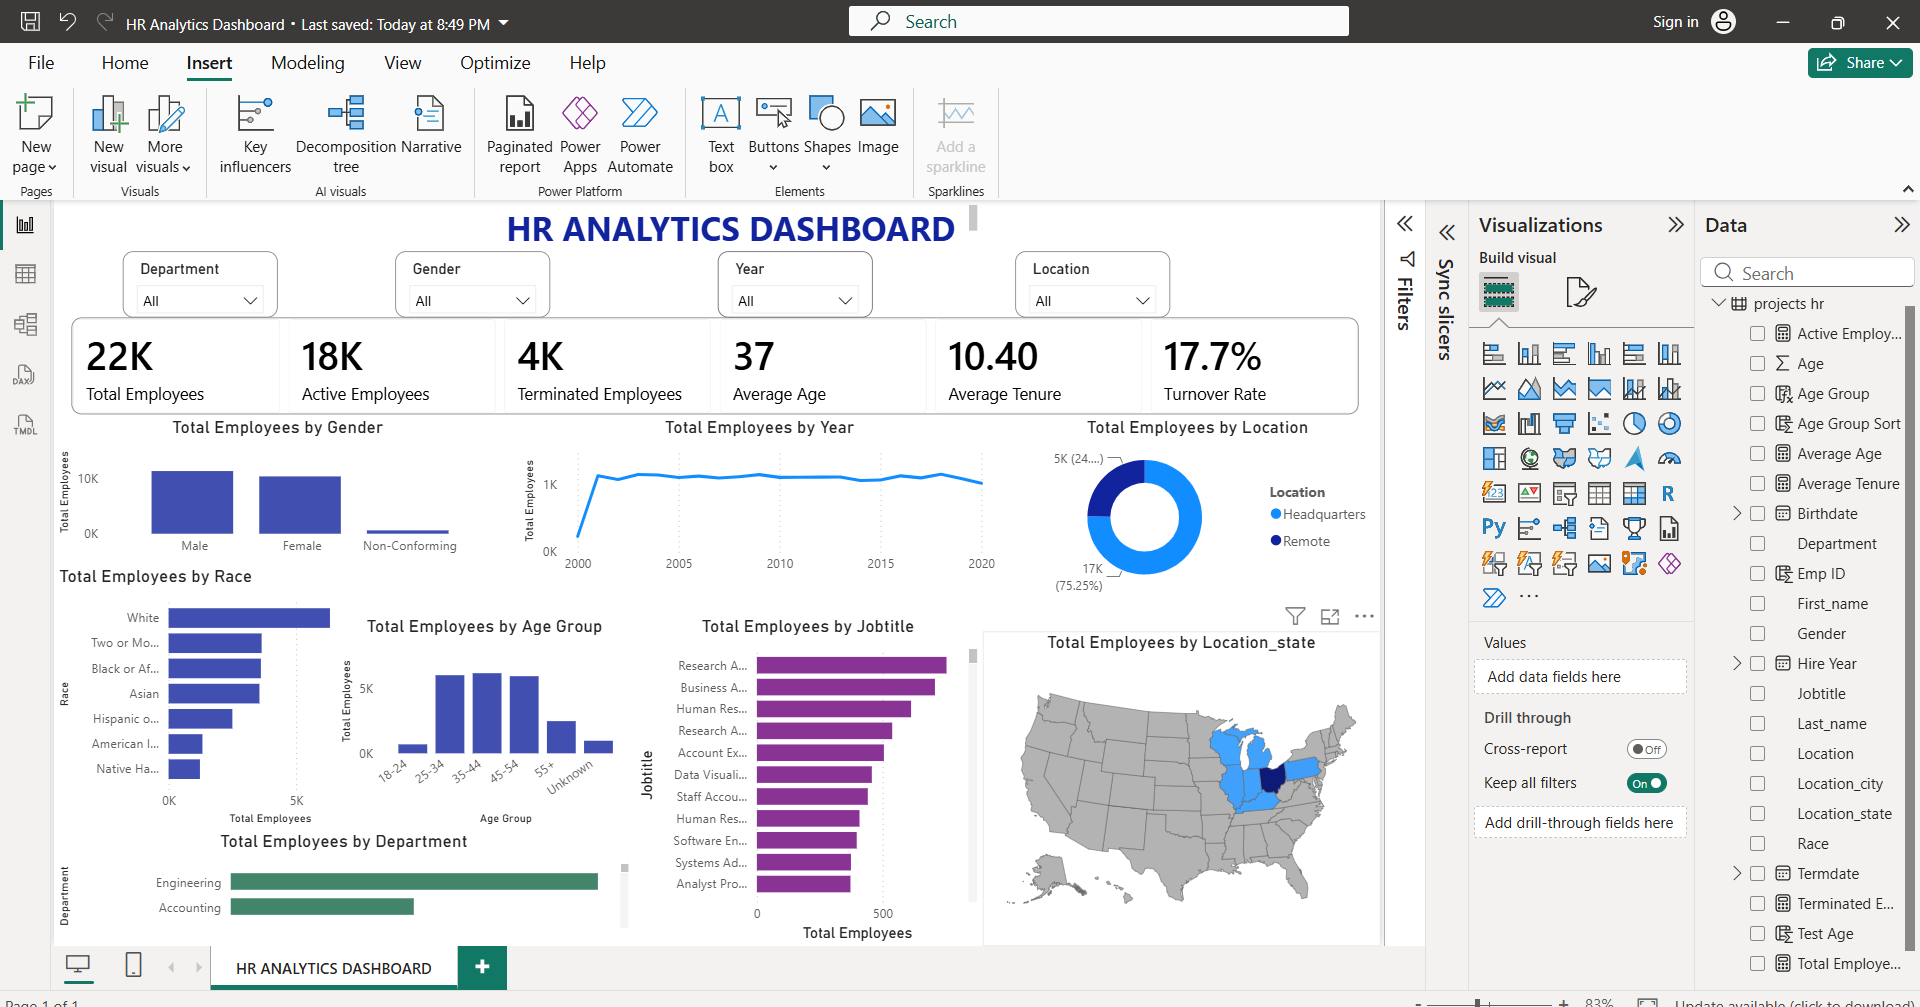

This screenshot's page, from the dashboard's own definition file:
{"tool":"powerbi","page":{"name":"HR ANALYTICS DASHBOARD","canvas":[1280,720],"ordinal":0},"visuals":[{"type":"textbox","box":[431.9,0,464.5,48.3],"z":0},{"type":"cardVisual","fields":{"Data":["projects hr.Total Employees","projects hr.Active Employees","projects hr.Terminated Employees","projects hr.Average Age","projects hr.Average Tenure","projects hr.Turnover Rate"]},"box":[0,96.5,1280,127.9],"z":1000},{"type":"clusteredColumnChart","fields":{"Category":["projects hr.gender"],"Y":["projects hr.Total Employees"]},"box":[0,208.7,431.9,143.6],"z":2000},{"type":"lineChart","fields":{"Category":["projects hr.hire_date.Variation.Date Hierarchy.Year","projects hr.hire_date.Variation.Date Hierarchy.Quarter","projects hr.hire_date.Variation.Date Hierarchy.Month","projects hr.hire_date.Variation.Date Hierarchy.Day"],"Y":["projects hr.Total Employees"]},"box":[448.8,208.7,464.5,160.5],"z":3000},{"type":"donutChart","fields":{"Category":["projects hr.location"],"Y":["projects hr.Total Employees"]},"box":[927.8,208.7,352.3,176.1],"z":4000},{"type":"barChart","fields":{"Category":["projects hr.race"],"Y":["projects hr.Total Employees"]},"box":[0,352.3,319.7,255.8],"z":5000},{"type":"barChart","fields":{"Category":["projects hr.department"],"Y":["projects hr.Total Employees"]},"box":[0,608,559.8,100.1],"z":6000},{"type":"clusteredColumnChart","fields":{"Category":["projects hr.Age Group"],"Y":["projects hr.Total Employees"]},"box":[271.4,400.5,288.3,207.5],"z":7000},{"type":"slicer","fields":{"Values":["projects hr.Department"]},"box":[66.4,49.5,149.6,63.9],"z":8000},{"type":"slicer","fields":{"Values":["projects hr.Gender"]},"box":[329.4,49.5,149.6,63.9],"z":9000},{"type":"slicer","fields":{"Values":["projects hr.Hire Year.Variation.Date Hierarchy.Year"]},"box":[640.6,49.5,149.6,63.9],"z":10000},{"type":"slicer","fields":{"Values":["projects hr.Location"]},"box":[927.8,49.5,149.6,63.9],"z":11000},{"type":"shapeMap","fields":{"Category":["projects hr.Location_state"],"Value":["projects hr.Total Employees"]},"box":[896,416,384,304],"z":12000},{"type":"barChart","fields":{"Category":["projects hr.Jobtitle"],"Y":["projects hr.Total Employees"]},"box":[560,400,336,320],"z":13000}]}

Visuals, with their boxes on the page's 1280x720 design canvas (x1, y1, x2, y2). These are canvas units, not pixel positions in the 1920x1007 screenshot, which may show the page scaled, cropped or inside an application window:
textbox: detection(432, 0, 896, 48)
cardVisual - projects hr.Total Employees x projects hr.Active Employees: detection(0, 96, 1280, 224)
clusteredColumnChart - projects hr.gender x projects hr.Total Employees: detection(0, 209, 432, 352)
lineChart - projects hr.hire_date.Variation.Date Hierarchy.Year x projects hr.hire_date.Variation.Date Hierarchy.Quarter: detection(449, 209, 913, 369)
donutChart - projects hr.location x projects hr.Total Employees: detection(928, 209, 1280, 385)
barChart - projects hr.race x projects hr.Total Employees: detection(0, 352, 320, 608)
barChart - projects hr.department x projects hr.Total Employees: detection(0, 608, 560, 708)
clusteredColumnChart - projects hr.Age Group x projects hr.Total Employees: detection(271, 400, 560, 608)
slicer - projects hr.Department: detection(66, 50, 216, 113)
slicer - projects hr.Gender: detection(329, 50, 479, 113)
slicer - projects hr.Hire Year.Variation.Date Hierarchy.Year: detection(641, 50, 790, 113)
slicer - projects hr.Location: detection(928, 50, 1077, 113)
shapeMap - projects hr.Location_state x projects hr.Total Employees: detection(896, 416, 1280, 720)
barChart - projects hr.Jobtitle x projects hr.Total Employees: detection(560, 400, 896, 720)
